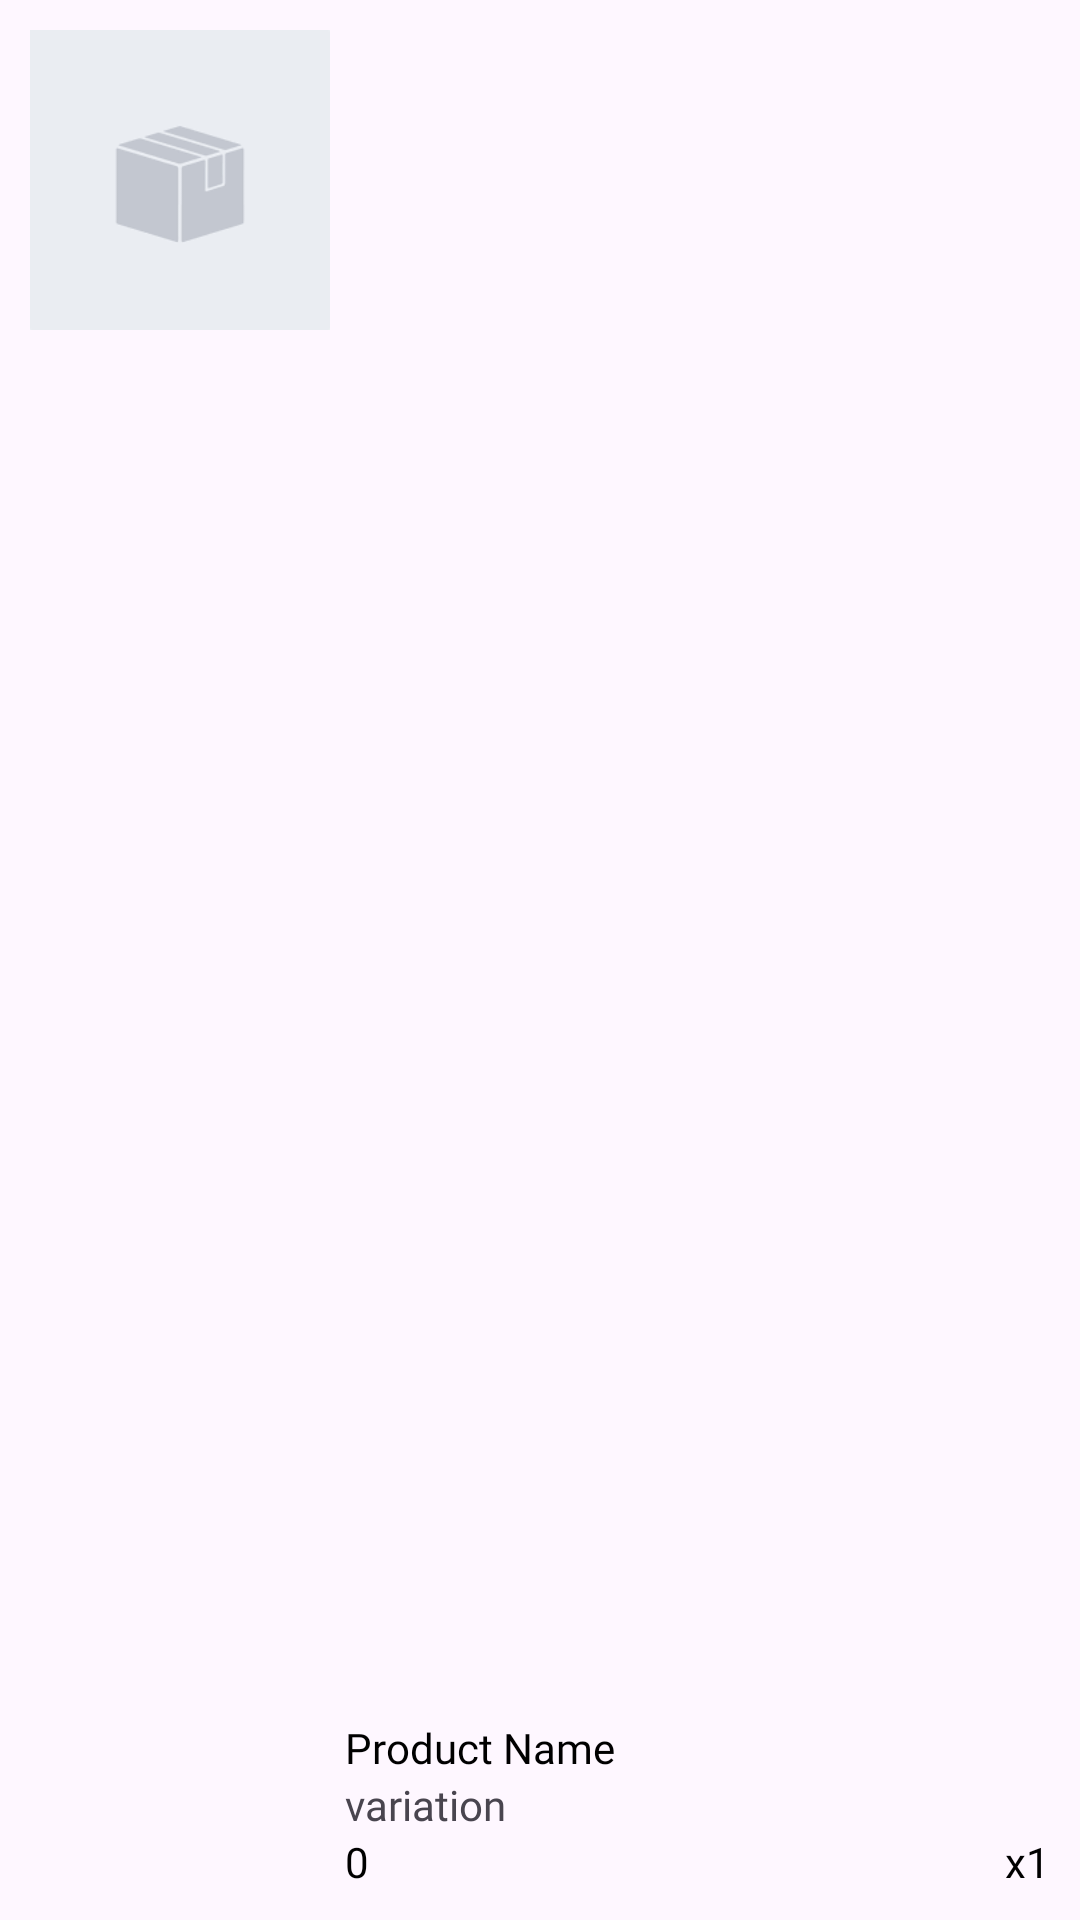

Where to tap for icons on this 1080 × 1920 app screen, as point (x, y):
product: point (180, 184)
